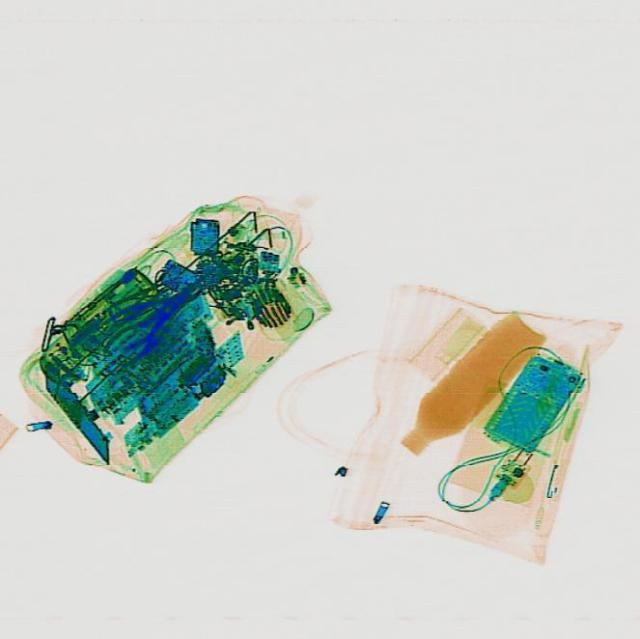Pliers: (104, 274, 210, 359)
